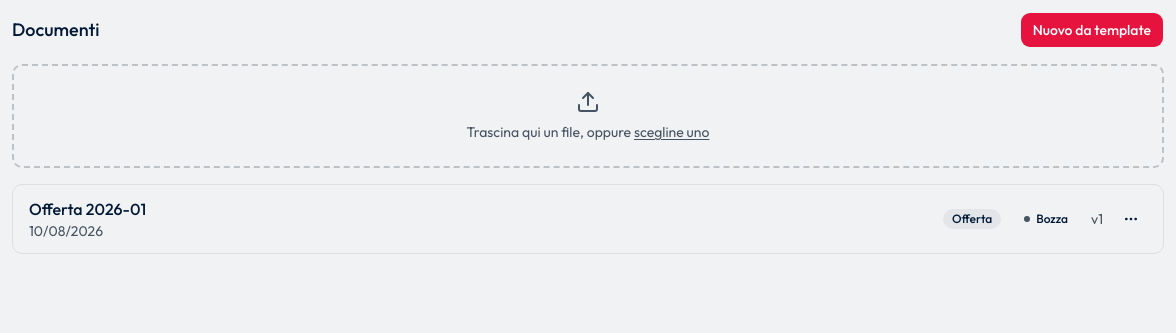
Test: DocumentsTab › offers download and archive behind the row menu
The width and height of the screenshot is (1176, 333).
Click the button named "Azioni per Offerta 2026-01" at (1131, 219), box [1115, 203, 1147, 235]
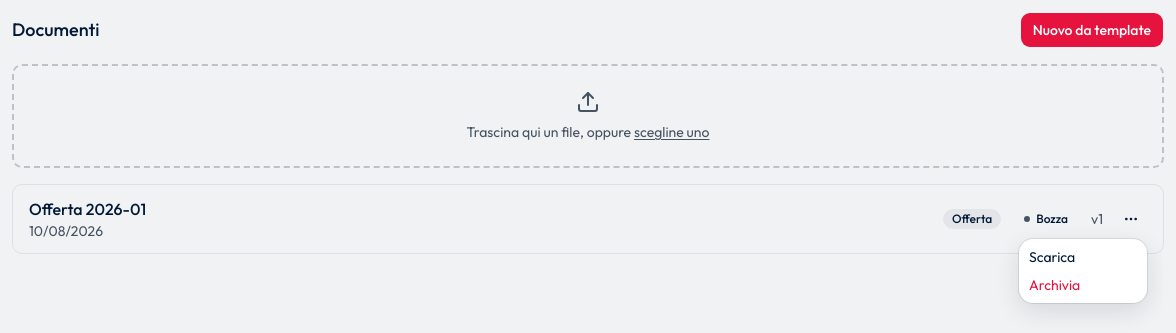
Expected: the menu item "Scarica" is shown, [1029, 248, 1075, 266]
